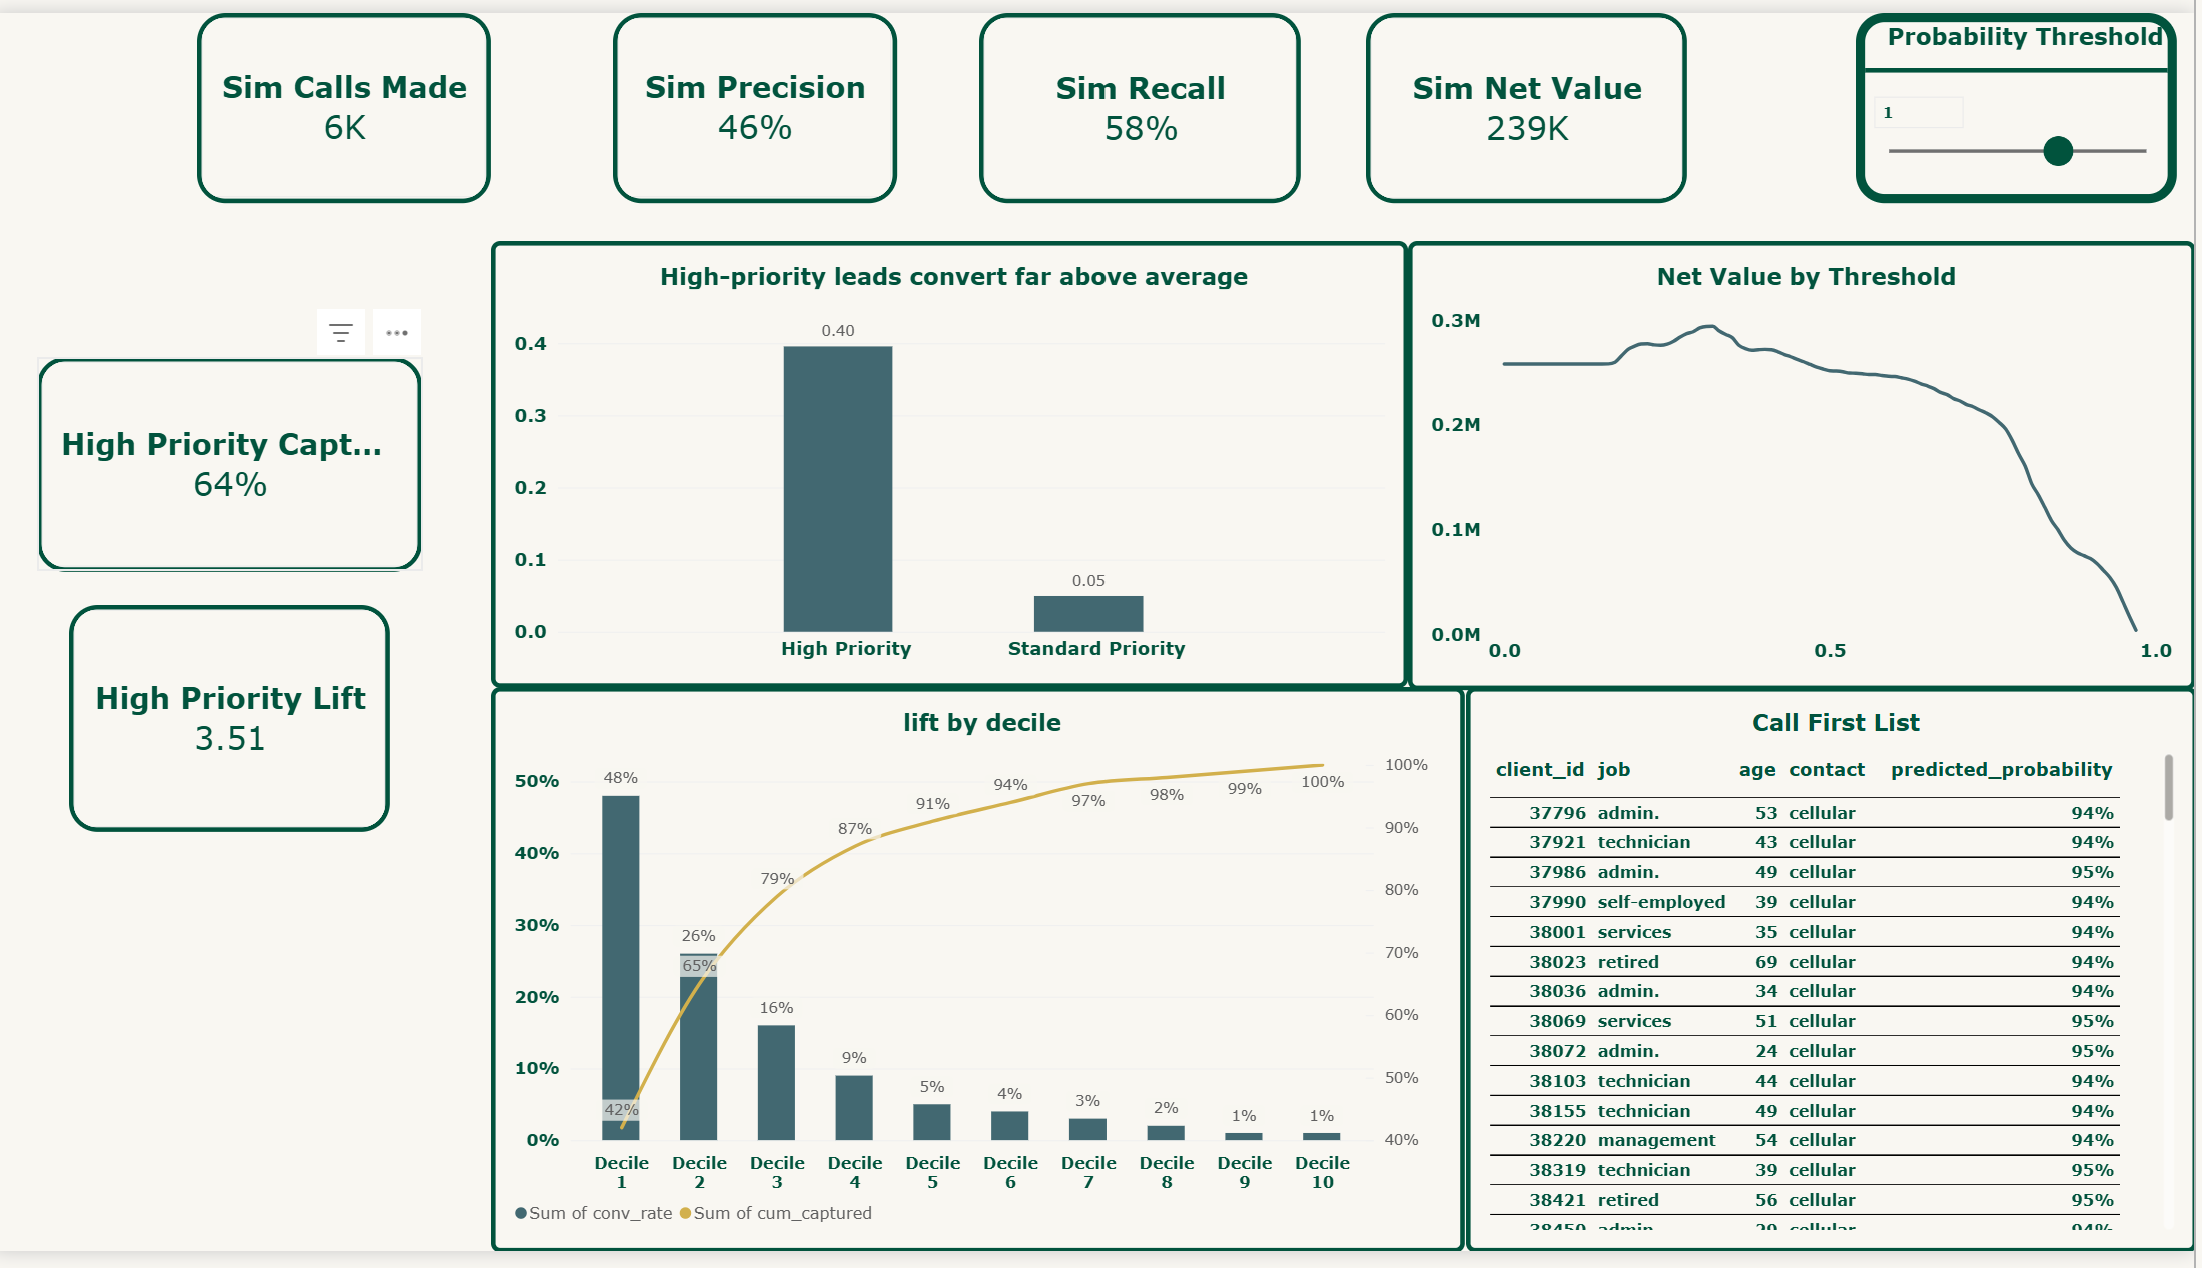

What the dashboard file says about the page in this screenshot:
{"tool":"powerbi","page":{"name":"Leads & Simulator","canvas":[1920,1080],"ordinal":6},"visuals":[{"type":"slicer","title":"Probability Threshold","fields":{"Values":["Threshold.Threshold"]},"box":[1624.8,0,279.9,166.2],"z":0},{"type":"cardVisual","fields":{"Data":["Threshold.Sim Calls Made"]},"box":[178.9,0,256.4,165.9],"z":1000},{"type":"cardVisual","fields":{"Data":["Importance.Sim Precision"]},"box":[540.9,0,247.8,165.9],"z":2000},{"type":"cardVisual","fields":{"Data":["Importance.Sim Recall"]},"box":[859.8,0,280,166],"z":3000},{"type":"cardVisual","fields":{"Data":["Importance.Sim Net Value"]},"box":[1198.1,0,280,166],"z":4000},{"type":"lineChart","title":" Net Value by Threshold","fields":{"Category":["Threshold.Threshold"],"Y":["Importance.Sim Net Value"]},"box":[1234.7,198.2,687.4,392.2],"z":5000},{"type":"clusteredColumnChart","title":"High-priority leads convert far above average","fields":{"Category":["bank.Priority"],"Y":["bank.High Priority Conversion (Test)"]},"box":[435.3,198.2,799.5,390],"z":6000},{"type":"cardVisual","fields":{"Data":["Importance.High Priority Capture"]},"box":[38.8,299.5,336.2,187.5],"z":7000},{"type":"cardVisual","fields":{"Data":["Importance.High Priority Lift"]},"box":[66.8,517.2,280.1,198.2],"z":8000},{"type":"lineClusteredColumnComboChart","title":"lift by decile","fields":{"Category":["lift.decile"],"Y":["Sum(lift.conv_rate)"],"Y2":["Sum(lift.cum_captured)"]},"box":[435.3,588.3,849,493.5],"z":9000},{"type":"tableEx","title":"Call First List","fields":{"Values":["bank.client_id","bank.job","bank.age","bank.contact","bank.predicted_probability"]},"box":[1284.3,588.3,637.8,493.5],"z":10000}]}

Visuals, with their boxes in screenshot pixels (x1, y1, x2, y2), scaled from the page's 1920x1080 canvas onto the 2202x1268 screenshot:
"Probability Threshold" slicer: select_region(1863, 0, 2184, 195)
cardVisual - Threshold.Sim Calls Made: select_region(205, 0, 499, 195)
cardVisual - Importance.Sim Precision: select_region(620, 0, 905, 195)
cardVisual - Importance.Sim Recall: select_region(986, 0, 1307, 195)
cardVisual - Importance.Sim Net Value: select_region(1374, 0, 1695, 195)
" Net Value by Threshold" lineChart: select_region(1416, 233, 2201, 693)
"High-priority leads convert far above average" clusteredColumnChart: select_region(499, 233, 1416, 691)
cardVisual - Importance.High Priority Capture: select_region(44, 352, 430, 572)
cardVisual - Importance.High Priority Lift: select_region(77, 607, 398, 840)
"lift by decile" lineClusteredColumnComboChart: select_region(499, 691, 1473, 1267)
"Call First List" tableEx: select_region(1473, 691, 2201, 1267)
